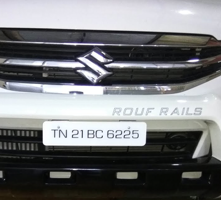TN21BC6225: (42, 120, 146, 146)
